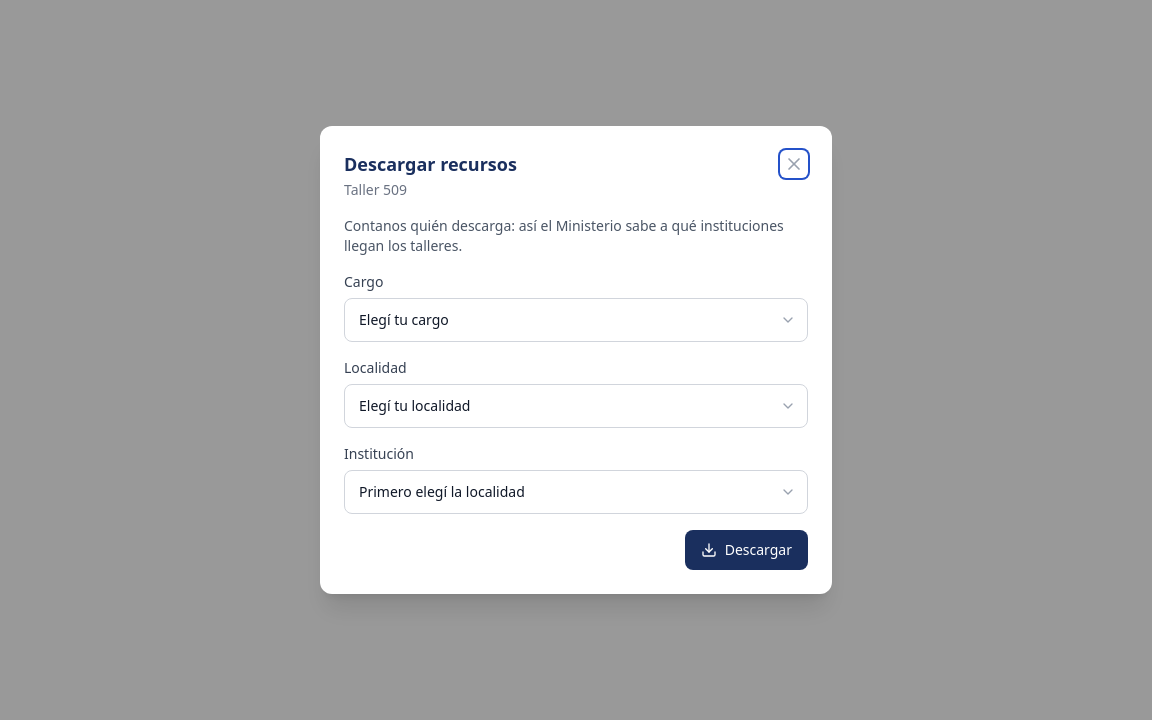
DescargaModal: formulario › "Otra" pide el nombre de la institución, que es obligatorio
Expected: the field labelled "Nombre de la institución" is not shown
Select "Docente" in the dropdown labelled "Cargo": (576, 320) [344,298,808,342]
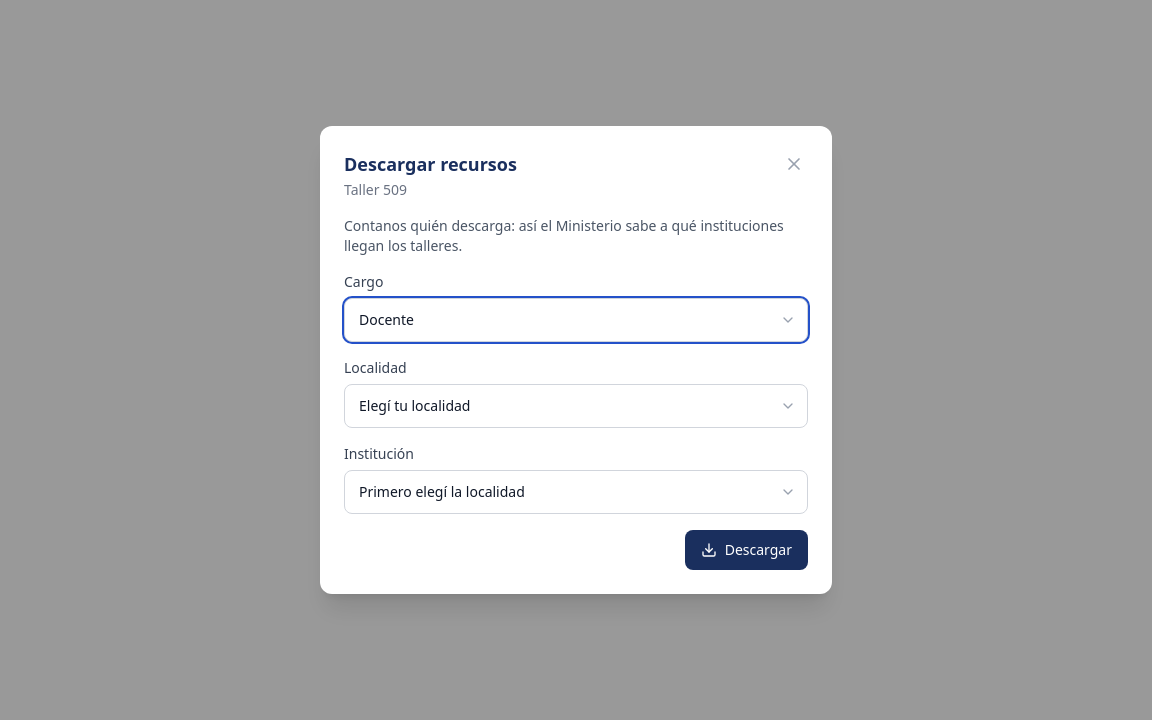
Select "Posadas" in the dropdown labelled "Localidad": (576, 406) [344,384,808,428]
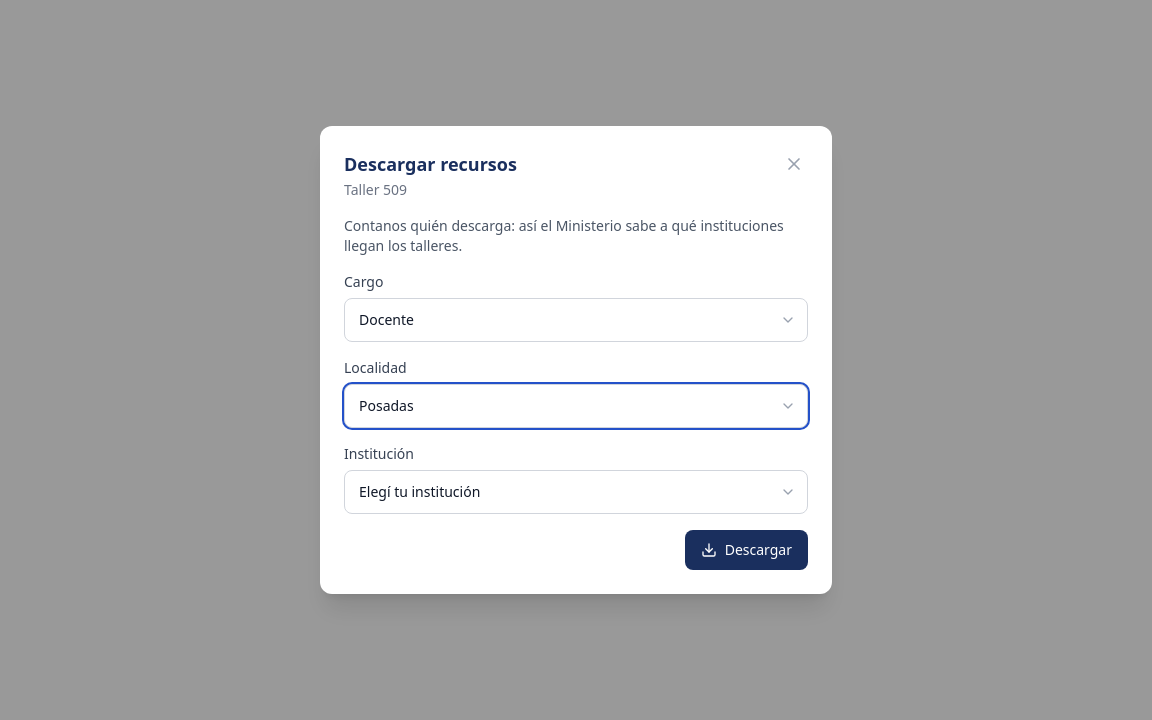
Select "Otra" in the dropdown labelled "Institución": (576, 492) [344,470,808,514]
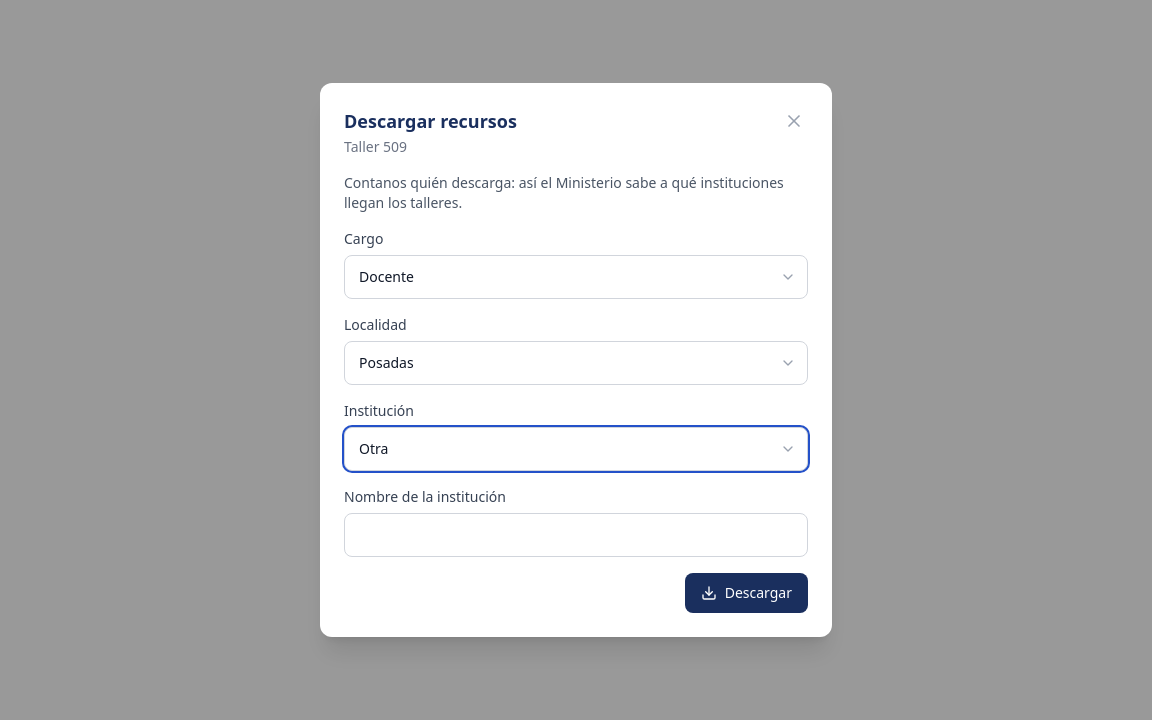
Expected: the field labelled "Nombre de la institución" is shown, [344,513,808,557]
Click the button "Descargar": click(746, 593) [685,573,808,613]
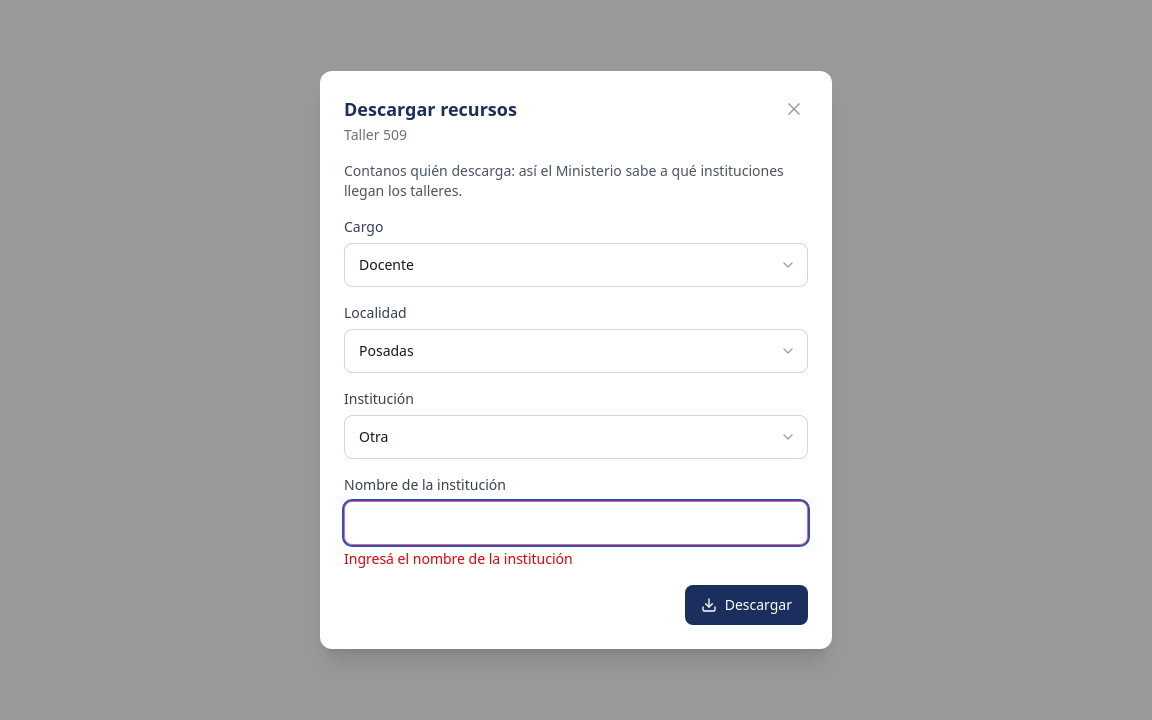
Expected: the message "Ingresá el nombre de la institución" is shown, [344,549,573,568]
